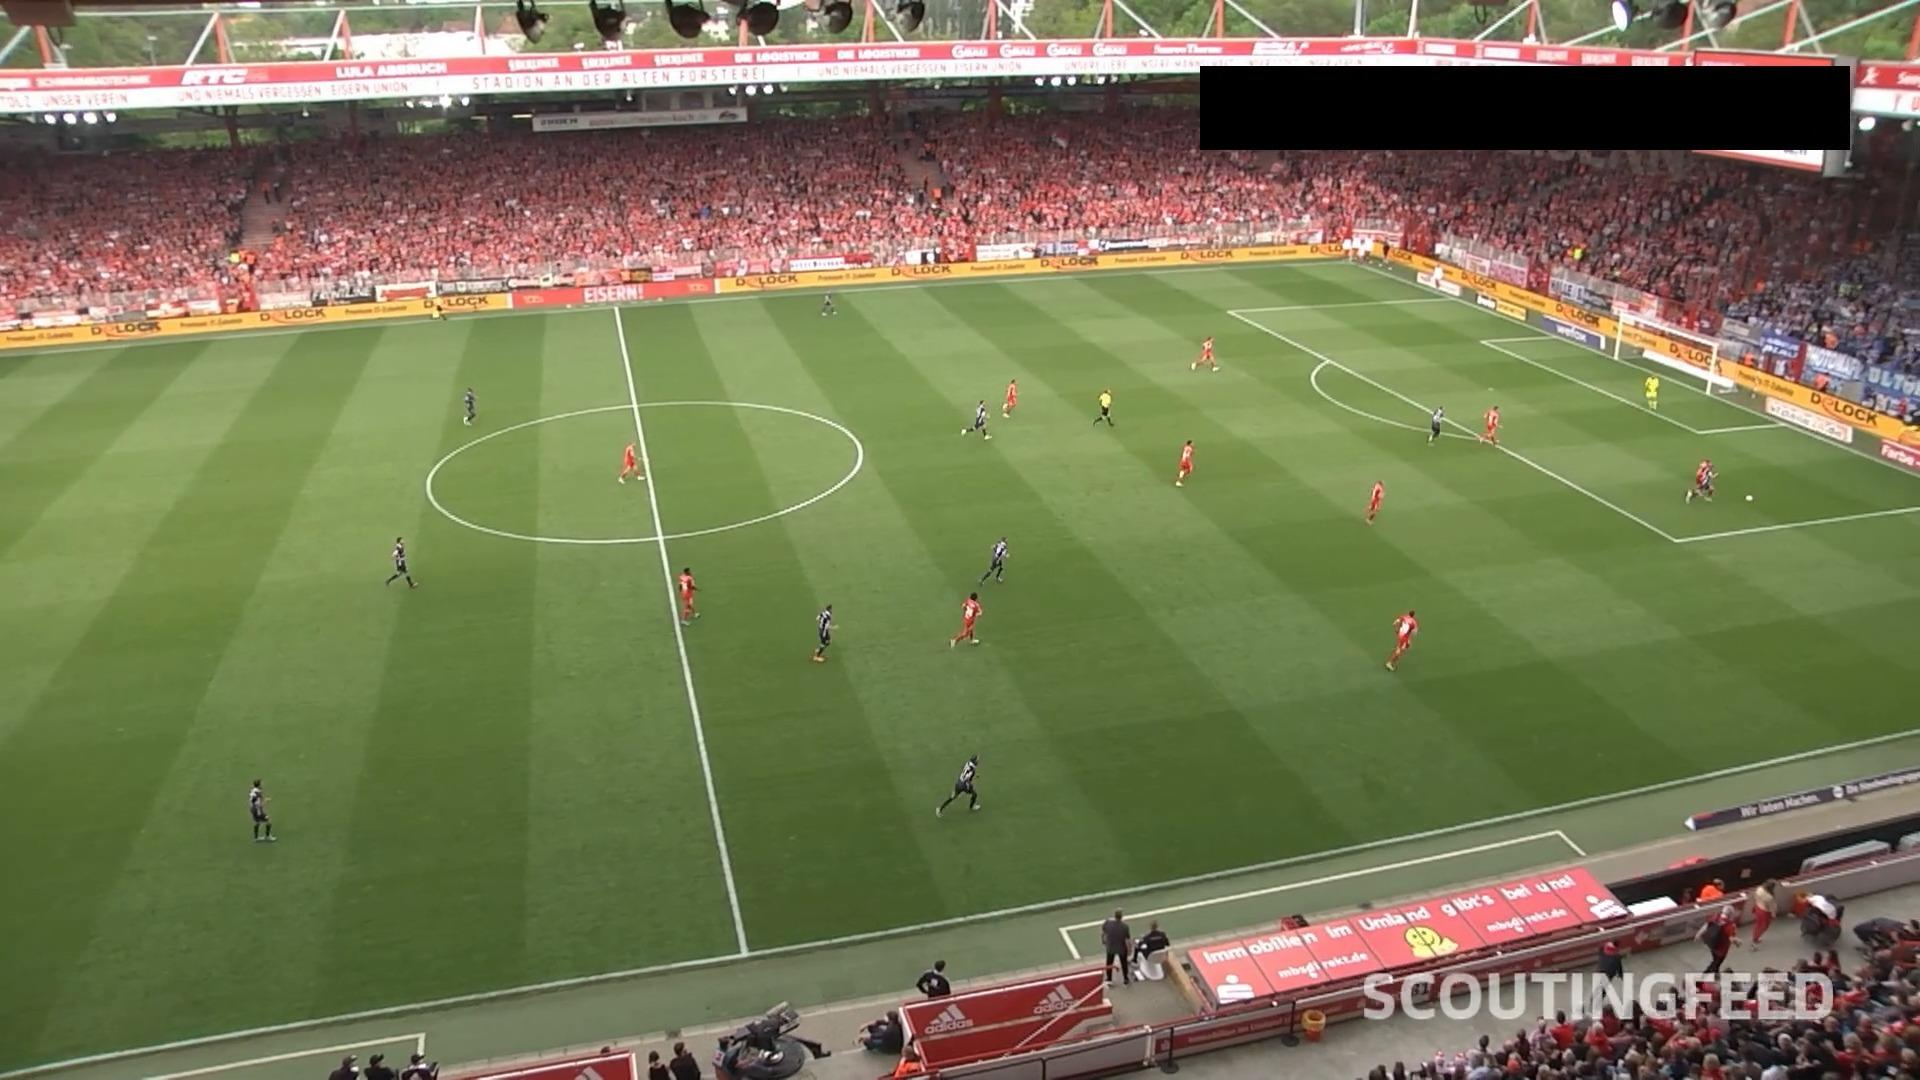ball: (1745, 495, 1754, 504)
